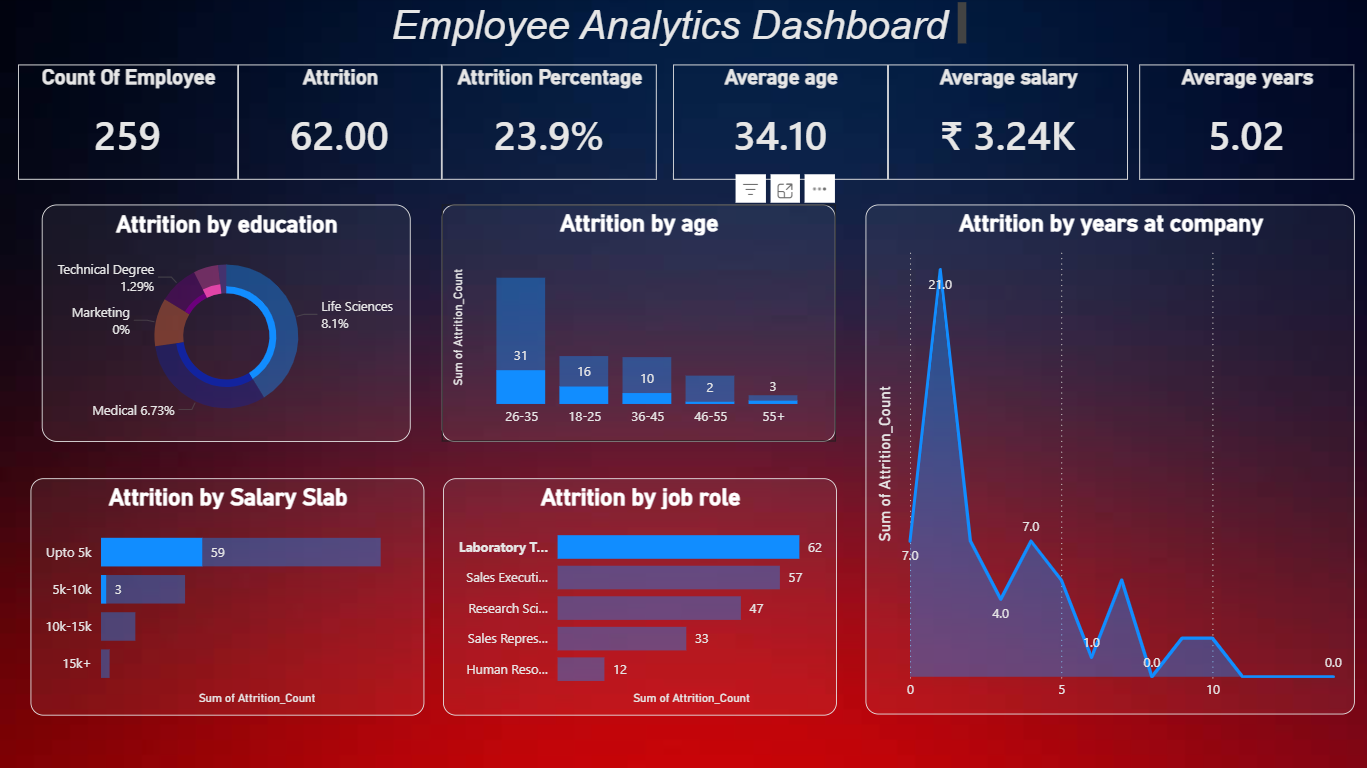

Layout of this report page (visuals, bound fields, positions):
{"tool":"powerbi","page":{"name":"Page 1","canvas":[1280,720],"ordinal":0},"visuals":[{"type":"cardVisual","title":"Attrition","fields":{"Data":["Sum(HR_Analytics.Attrition_Count)"]},"box":[223.3,62.8,189.5,107],"z":0},{"type":"cardVisual","title":"Attrition Percentage","fields":{"Data":["HR_Analytics.Attrition Rate"]},"box":[412.8,62.8,200,107],"z":1000},{"type":"cardVisual","title":"Average age","fields":{"Data":["Avg(HR_Analytics.Age)"]},"box":[627.9,62.8,200,107],"z":2000},{"type":"cardVisual","title":"Average salary","fields":{"Data":["Avg(HR_Analytics.MonthlyIncome)"]},"box":[827.9,62.8,223.3,107],"z":3000},{"type":"cardVisual","title":"Average years","fields":{"Data":["Avg(HR_Analytics.YearsAtCompany)"]},"box":[1061.6,62.8,200,107],"z":4000},{"type":"donutChart","title":"Attrition by education","fields":{"Y":["CountNonNull(HR_Analytics.Attrition)"],"Category":["HR_Analytics.EducationField"]},"box":[40.7,193,343,220.9],"z":5000},{"type":"columnChart","title":"Attrition by age","fields":{"Y":["Sum(HR_Analytics.Attrition_Count)"],"Category":["HR_Analytics.AgeGroup"]},"box":[412.8,193,366.3,220.9],"z":6000},{"type":"cardVisual","title":"Count Of Employee","fields":{"Data":["CountNonNull(HR_Analytics.EmpID)"]},"box":[18.6,62.8,204.7,107],"z":7000},{"type":"barChart","title":"Attrition by Salary Slab","fields":{"Category":["HR_Analytics.SalarySlab"],"Y":["Sum(HR_Analytics.Attrition_Count)"]},"box":[30.2,447.7,366.3,220.9],"z":8000},{"type":"barChart","title":"Attrition by job role","fields":{"Category":["HR_Analytics.JobRole"],"Y":["Sum(HR_Analytics.Attrition_Count)"]},"box":[414,447.7,366.3,220.9],"z":9000},{"type":"areaChart","title":"Attrition by years at company","fields":{"Category":["HR_Analytics.YearsAtCompany"],"Y":["Sum(HR_Analytics.Attrition_Count)"]},"box":[806.9,193.5,455.6,474.8],"z":10000},{"type":"textbox","box":[351.3,0,554.4,50.8],"z":11000}]}

Visuals, with their boxes in screenshot pixels (x1, y1, x2, y2), scaled from the page's 1280x720 canvas onto the 1367x768 screenshot:
"Attrition" cardVisual: [x1=238, y1=67, x2=441, y2=181]
"Attrition Percentage" cardVisual: [x1=441, y1=67, x2=654, y2=181]
"Average age" cardVisual: [x1=671, y1=67, x2=884, y2=181]
"Average salary" cardVisual: [x1=884, y1=67, x2=1123, y2=181]
"Average years" cardVisual: [x1=1134, y1=67, x2=1347, y2=181]
"Attrition by education" donutChart: [x1=43, y1=206, x2=410, y2=441]
"Attrition by age" columnChart: [x1=441, y1=206, x2=832, y2=441]
"Count Of Employee" cardVisual: [x1=20, y1=67, x2=238, y2=181]
"Attrition by Salary Slab" barChart: [x1=32, y1=478, x2=423, y2=713]
"Attrition by job role" barChart: [x1=442, y1=478, x2=833, y2=713]
"Attrition by years at company" areaChart: [x1=862, y1=206, x2=1348, y2=713]
textbox: [x1=375, y1=0, x2=967, y2=54]
